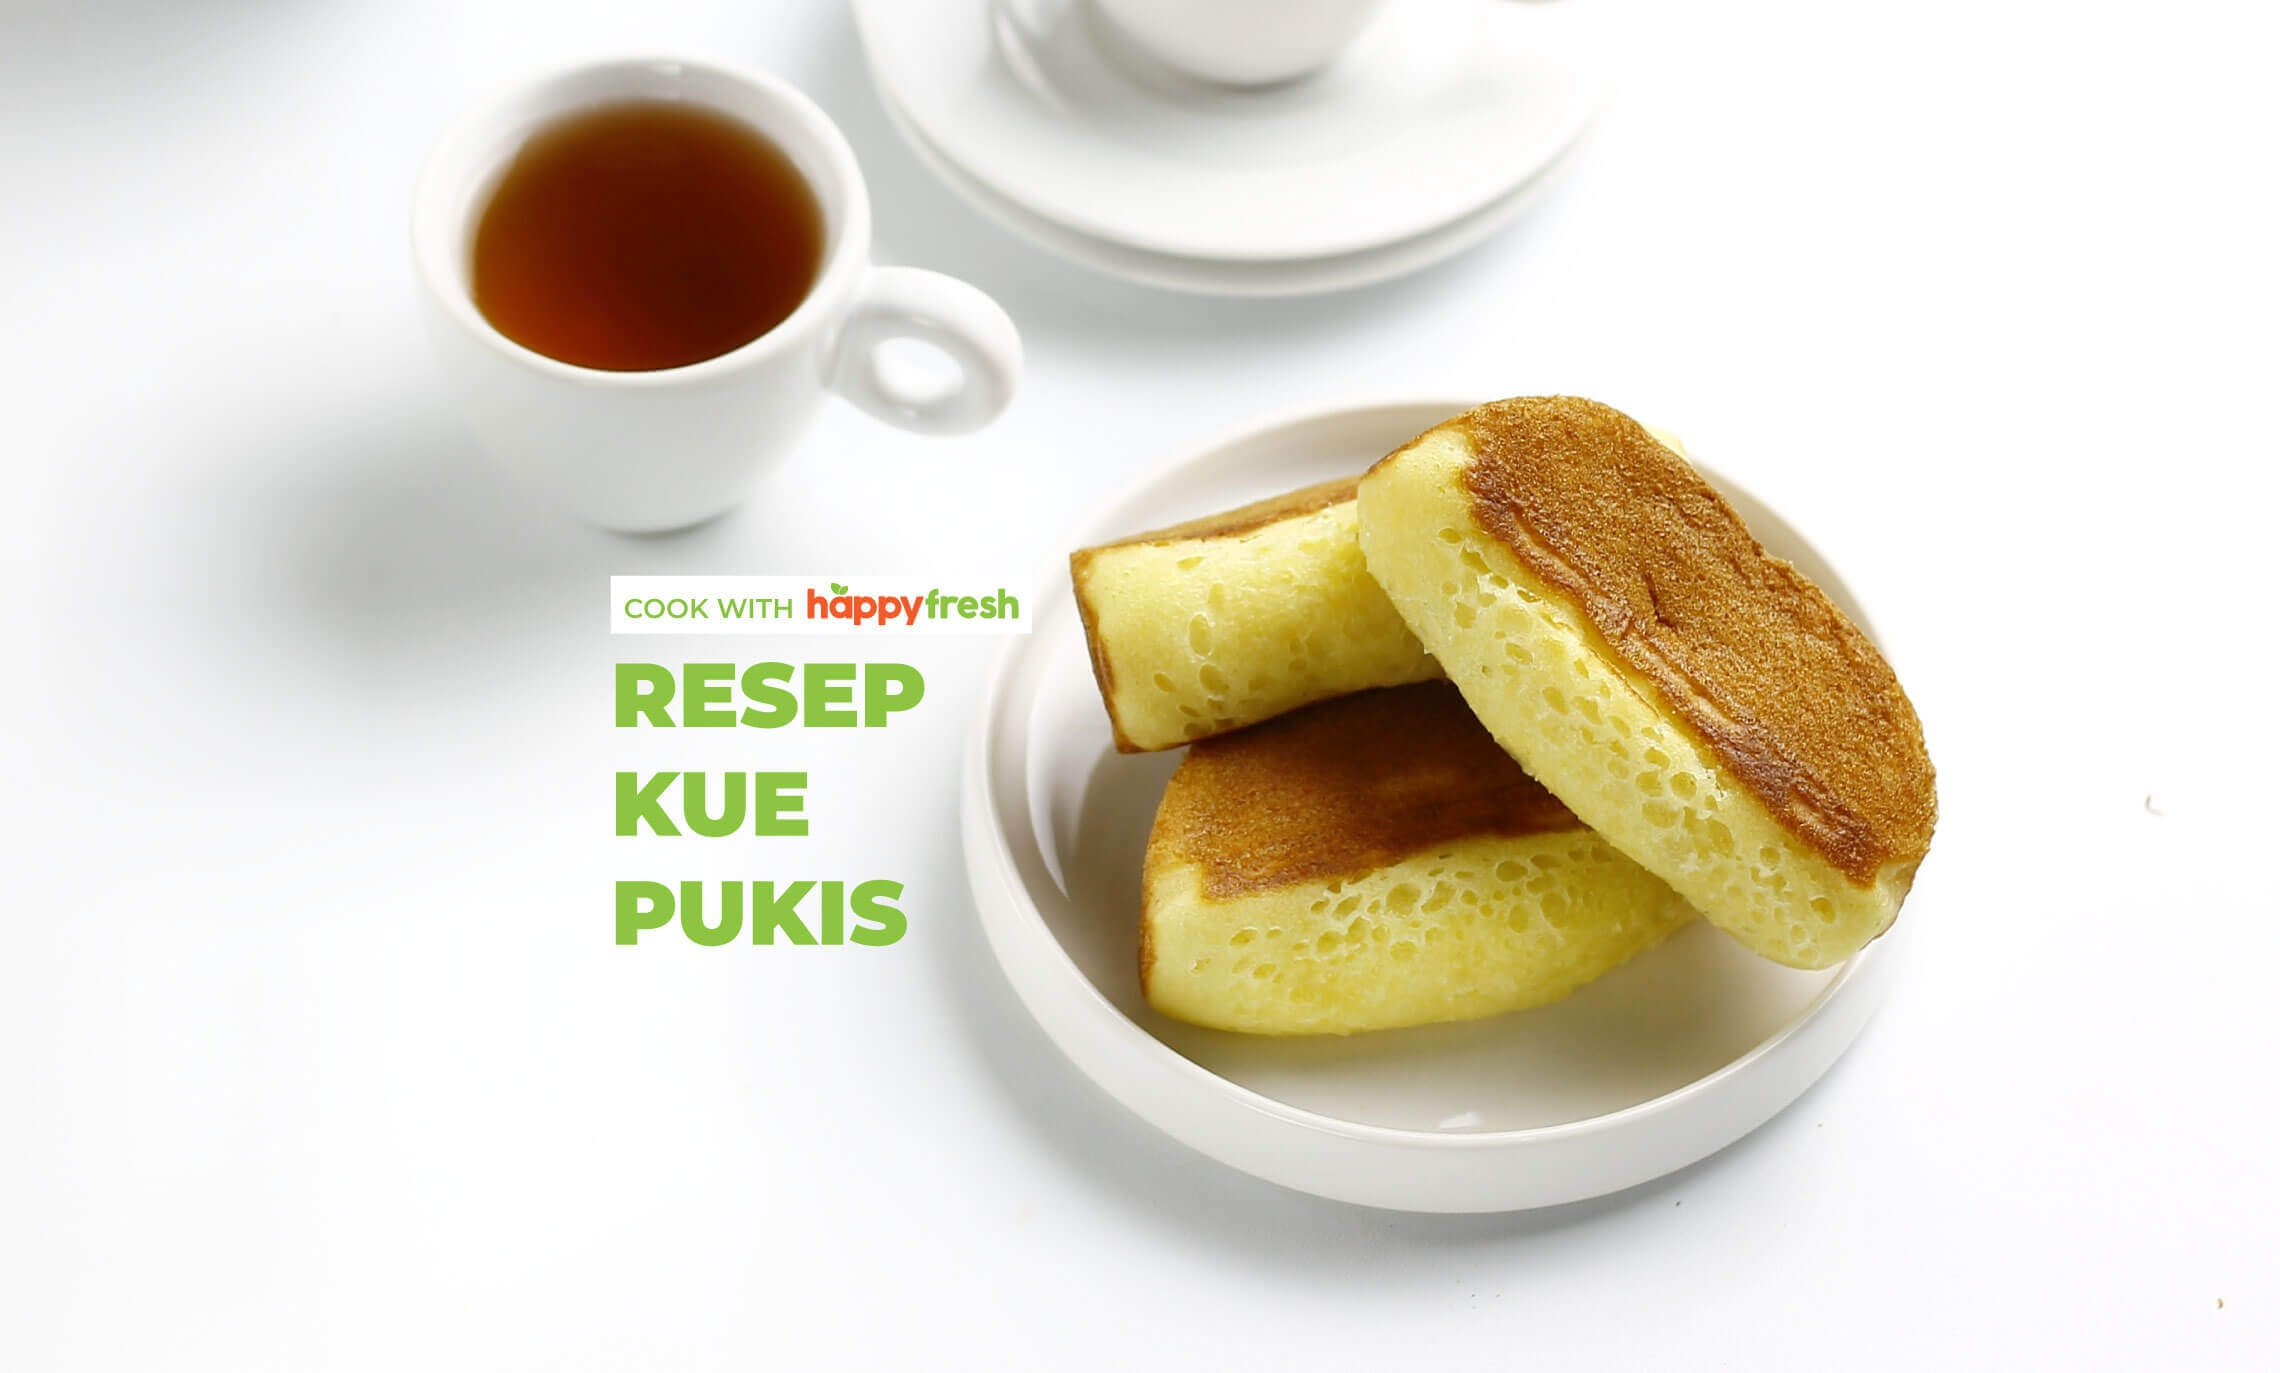pukis: (1238, 327, 1995, 914)
